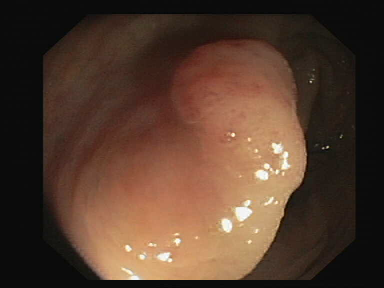polyp: (137, 34, 338, 221)
